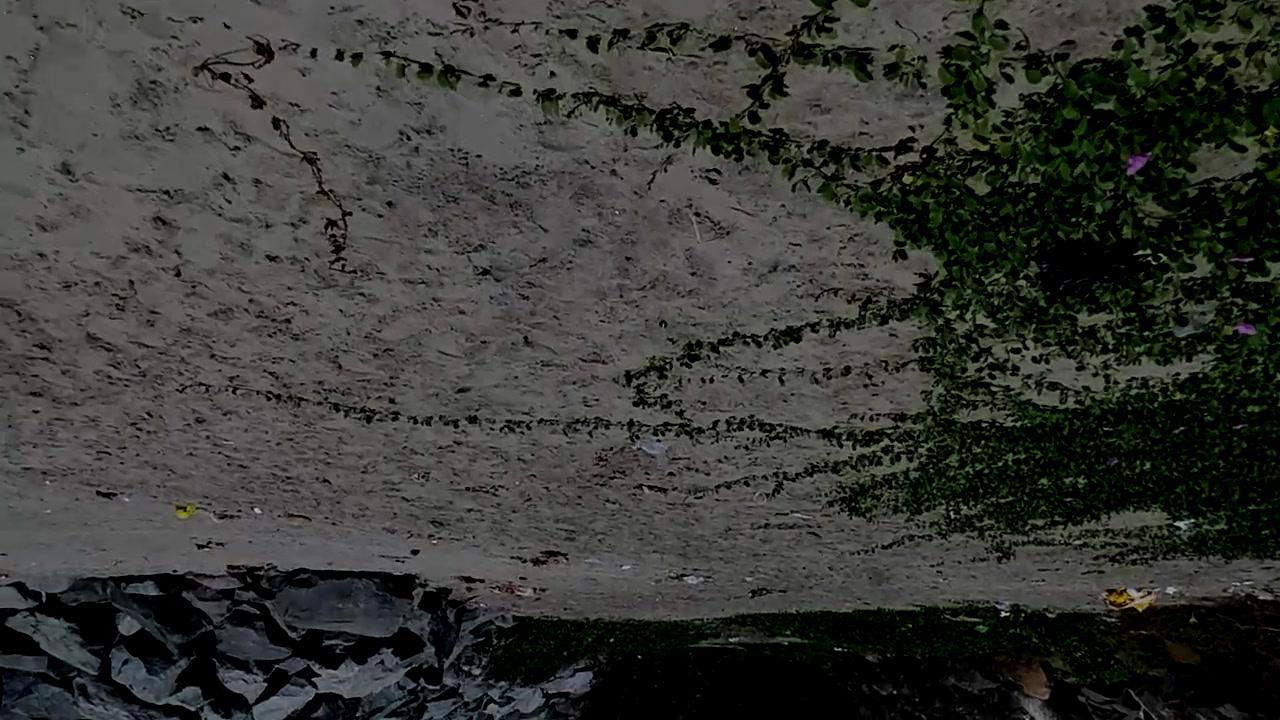obj: (209, 1, 1279, 570), (1038, 237, 1148, 292), (1103, 589, 1175, 612), (172, 500, 232, 526), (508, 552, 567, 570), (283, 512, 317, 528), (482, 587, 546, 594), (676, 573, 712, 583)
sand/background: (1, 576, 1279, 719)
